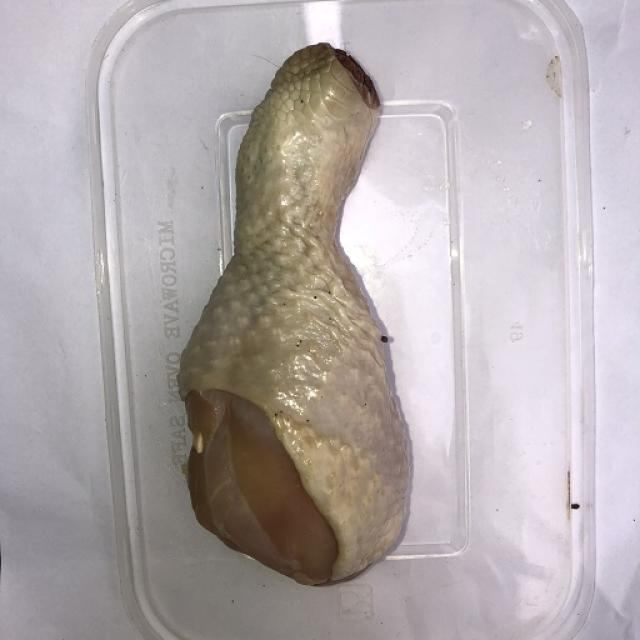chicken: (176, 41, 414, 586)
